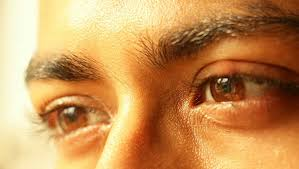pupil: (210, 77, 243, 102), (57, 107, 86, 130)
